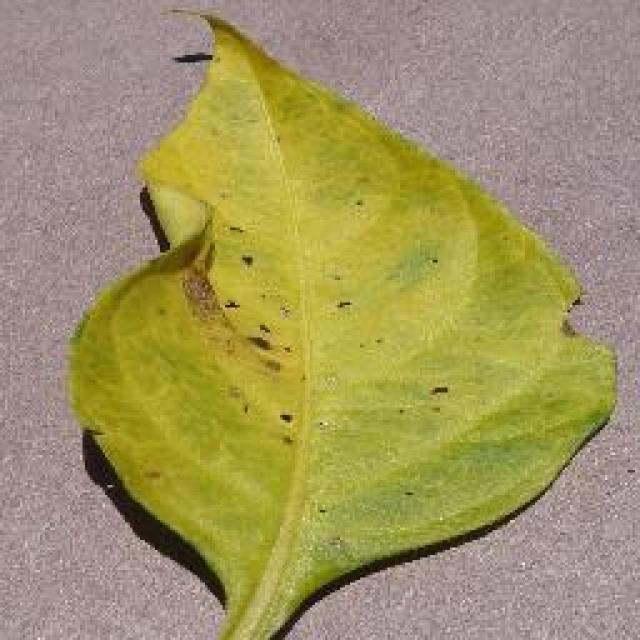Chilli_Bacterial_Spot: (62, 2, 620, 638), (180, 215, 458, 450), (380, 245, 445, 293), (175, 265, 225, 325), (242, 330, 272, 355), (425, 380, 453, 400), (235, 248, 257, 272), (330, 295, 355, 315), (273, 408, 295, 428)
